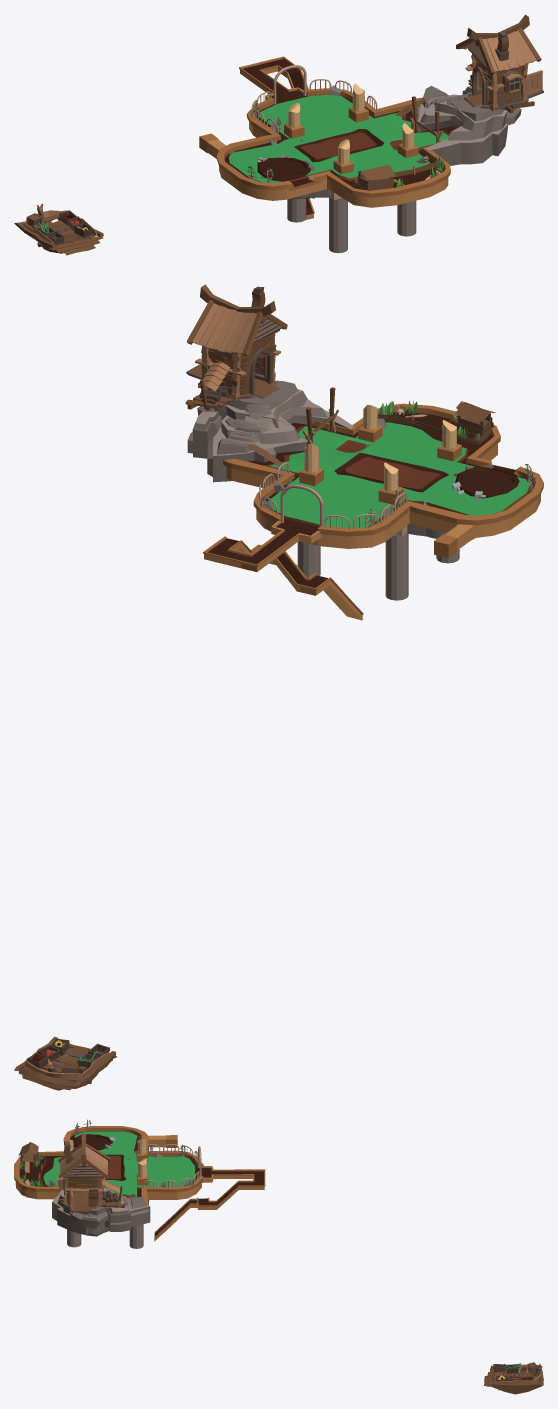
The model's file is pond level 1.fbx.
3 renders of one model, top to bottom at view 1: azimuth 30°, elevation 25°; view 2: azimuth 150°, elevation 25°; view 3: azimuth 270°, elevation 25°, orthographic. The views are drawn at different scales.
Visible parts, largest first — view 1: segment_3, pond_level_1; view 2: segment_3, pond_level_1; view 3: segment_3, pond_level_1.
Part boxes in pixels (bbox=[...]): segment_3: bbox=[199, 14, 543, 253]; pond_level_1: bbox=[14, 203, 103, 255]; segment_3: bbox=[185, 284, 543, 620]; pond_level_1: bbox=[14, 1036, 116, 1090]; segment_3: bbox=[14, 1119, 265, 1248]; pond_level_1: bbox=[484, 1362, 543, 1394].
Size of the model in its own units: 33.76 by 44.69 by 71.2.
